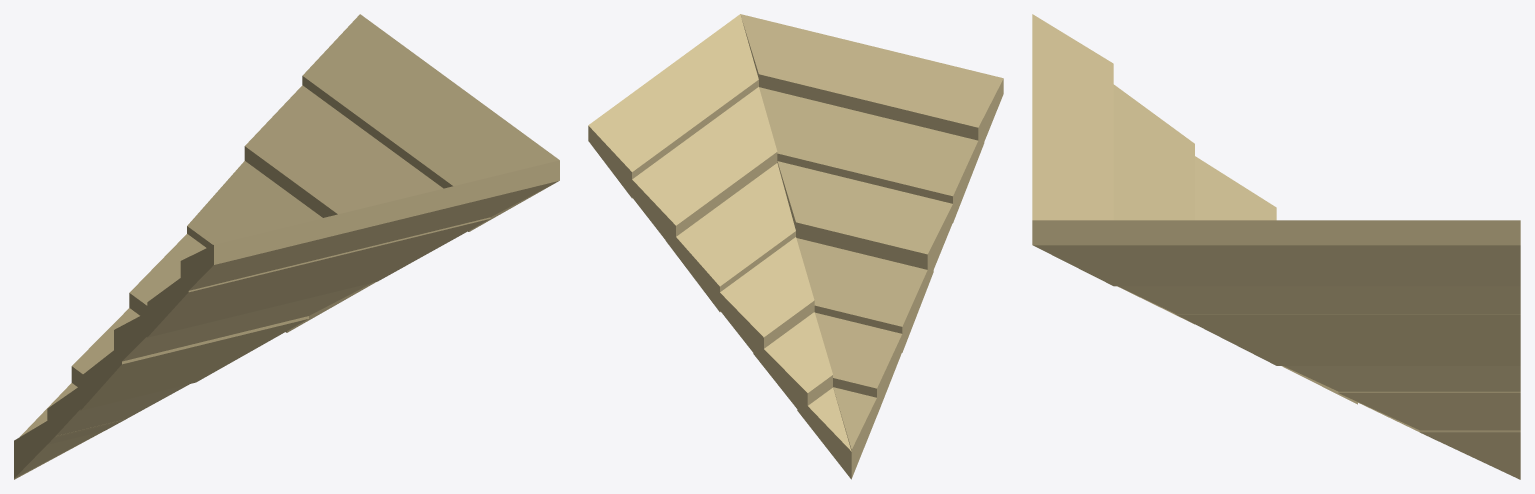
Rendered from thatch_roof_inner_steep.glb.
3 renders of one model, left to right at view 1: azimuth 30°, elevation 25°; view 2: azimuth 150°, elevation 25°; view 3: azimuth 270°, elevation 25°, orthographic. The views are drawn at different scales.
Parts seen in each view (by area): view 1: Roof; view 2: Roof; view 3: Roof.
Boxes of the visible parts, <box> form: Roof: <box>14,14,559,479</box>; Roof: <box>588,14,1003,479</box>; Roof: <box>1032,14,1520,479</box>.
Size of the model in its own units: 3 by 3.16 by 3.
